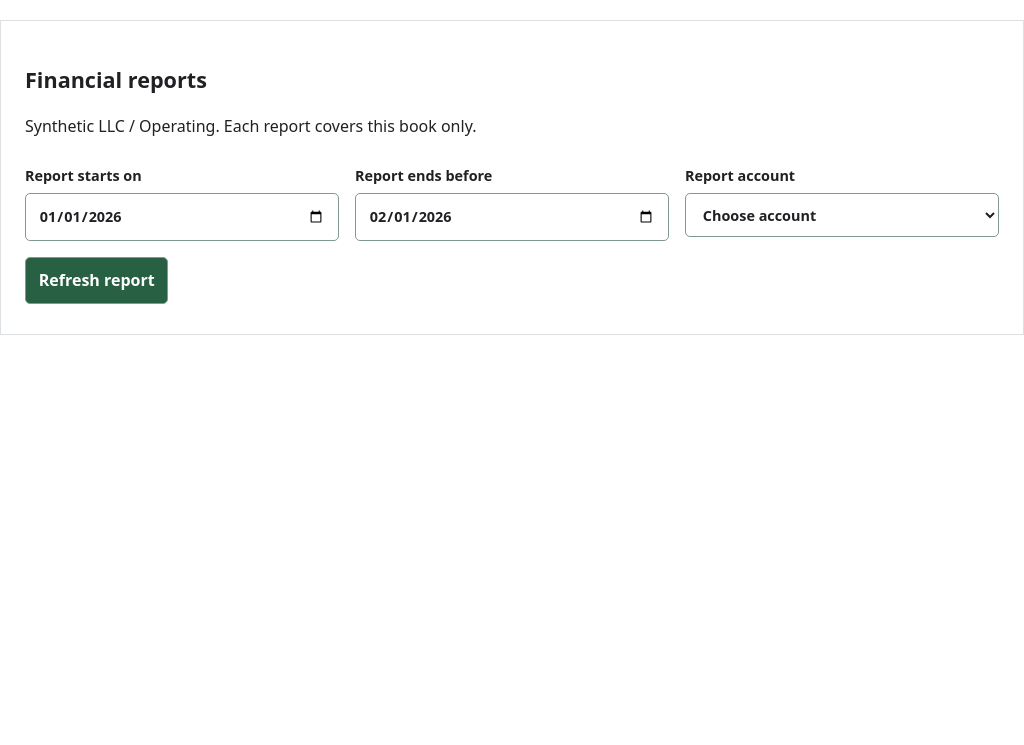
Test: financial report review › pins the first Ledger read from Position and permits explicit refresh after a changed book
The width and height of the screenshot is (1024, 745).
Select "1000 · Cash" in the dropdown labelled "Report account" at (842, 215), box [685,193,999,237]
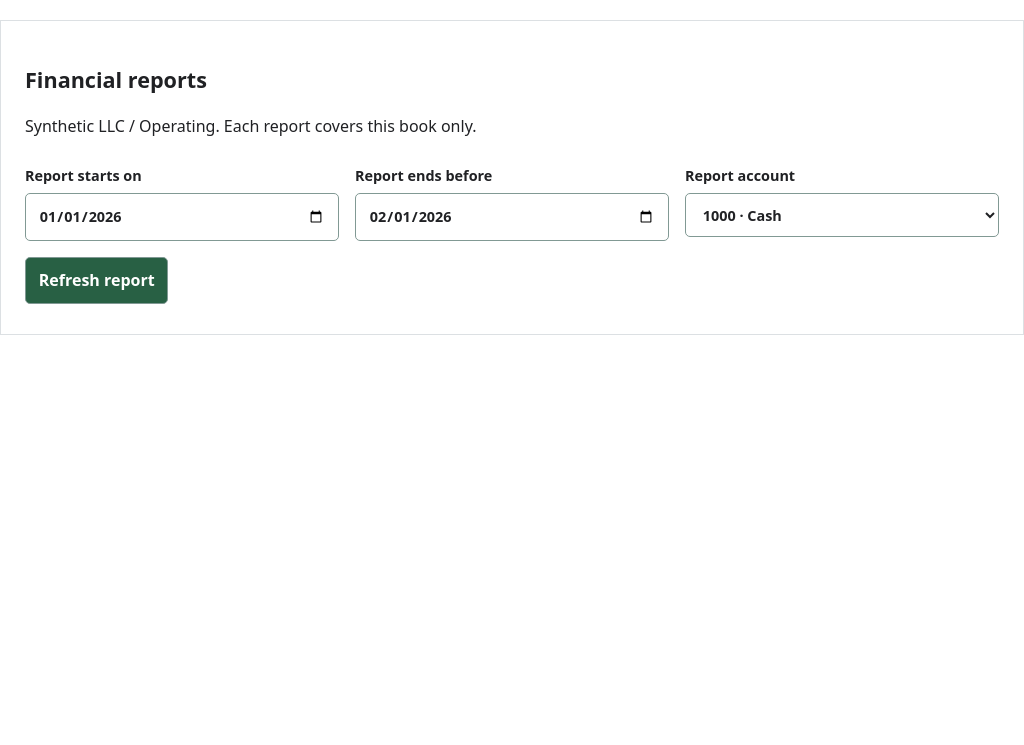
Click the button "Refresh report".
click(97, 280)  # box [25,256,168,304]
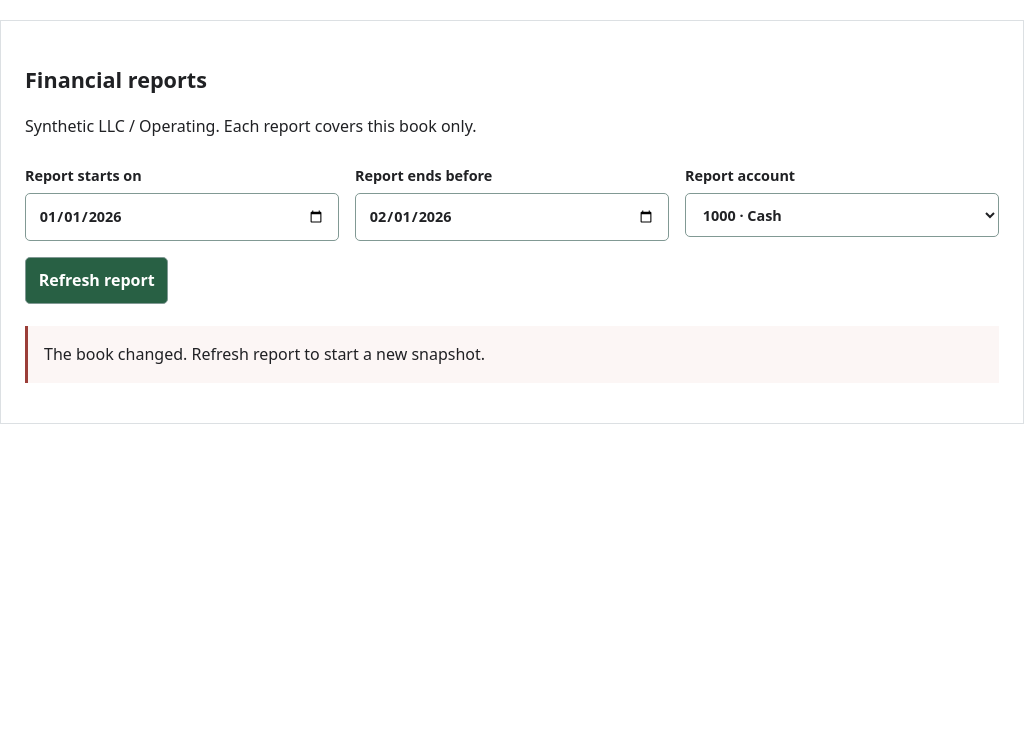
Expected: the text "Snapshot 2" is not shown
Expected: the message "The book changed. Refresh report to start a new snapshot." is shown, [25,326,999,383]
Click the button "Refresh report".
click(97, 280)  # box [25,256,168,304]
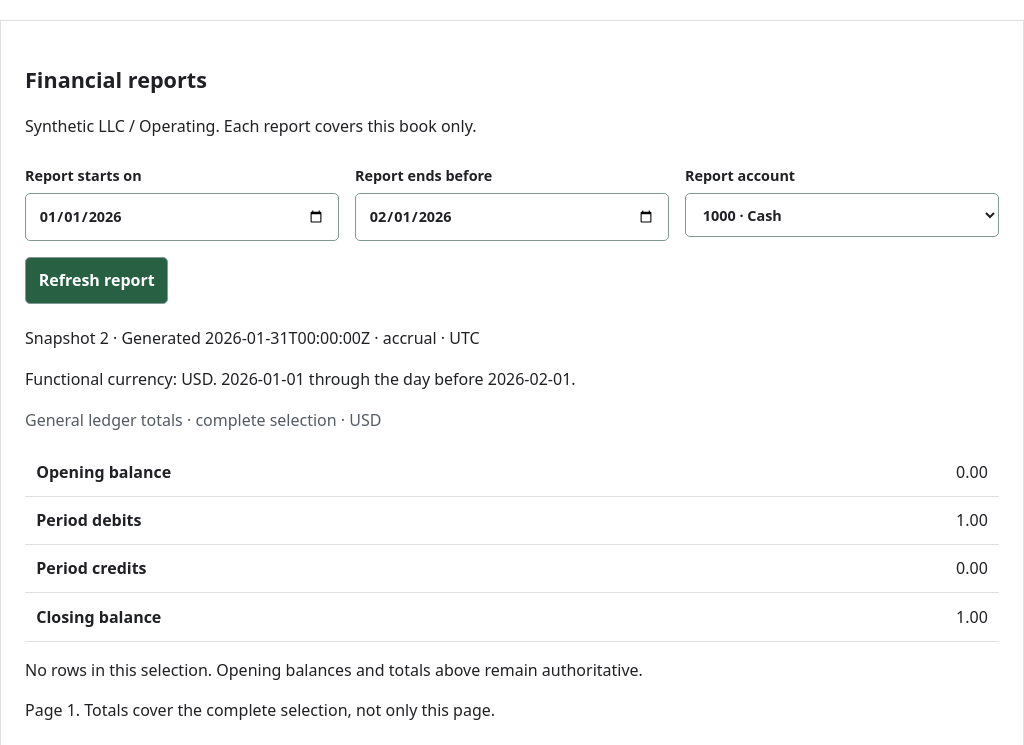
Expected: the text "Snapshot 2 · Generated 2026-01-31T00:00:00Z · accrual · UTC" is shown, [25,328,480,350]
